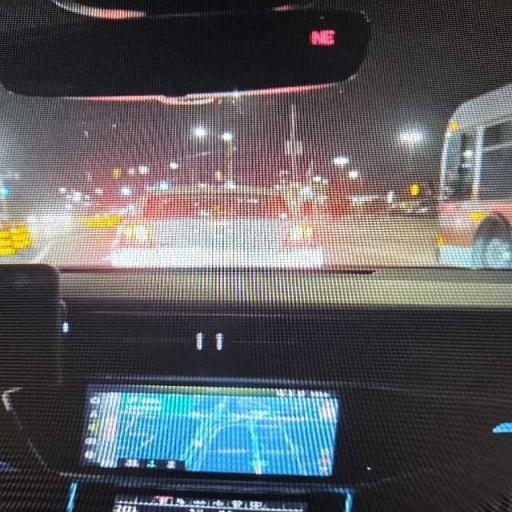car: (0, 0, 511, 511), (107, 185, 324, 268)
lane: (316, 215, 437, 267)
